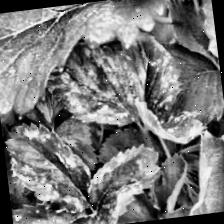Powdery Mildew Leaf: (41, 27, 160, 134), (2, 114, 97, 220), (83, 139, 168, 224), (135, 88, 210, 150), (175, 125, 224, 216), (137, 26, 187, 114), (10, 193, 105, 224)
